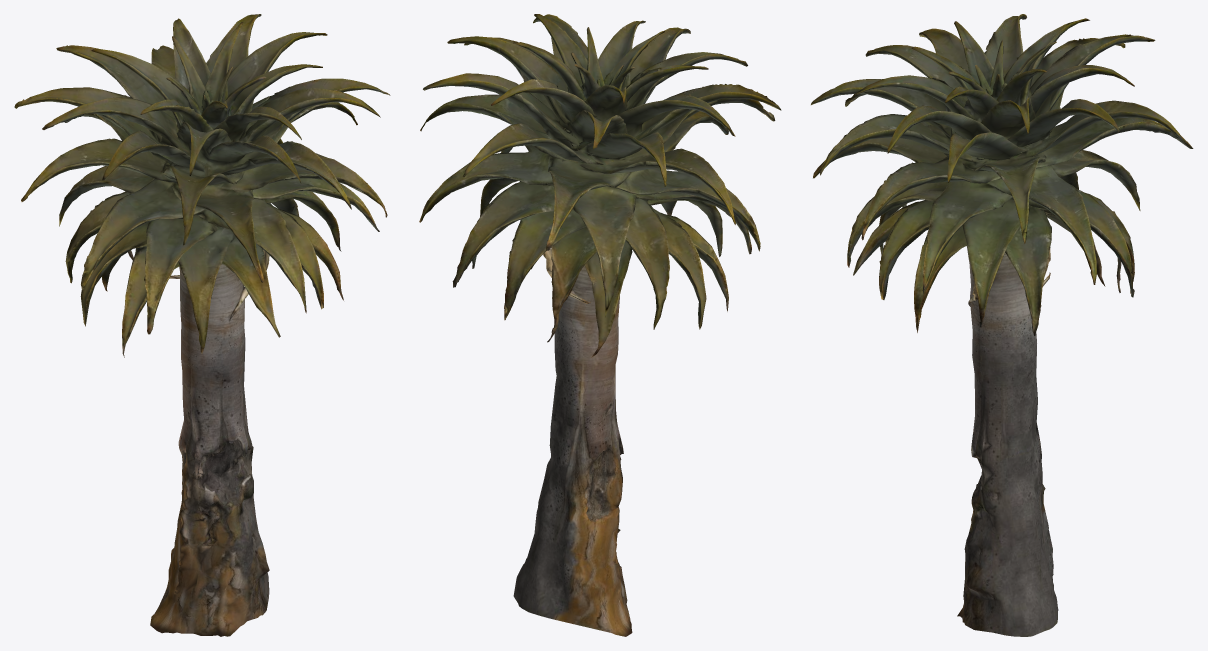
File: quiver_tree_02.glb
3 renders of one model, left to right at view 1: azimuth 30°, elevation 25°; view 2: azimuth 150°, elevation 25°; view 3: azimuth 270°, elevation 25°, orthographic.
Parts seen in each view (by area): view 1: quiver_tree_02; view 2: quiver_tree_02; view 3: quiver_tree_02.
Boxes of the visible parts, x1,y1,x2,y2 form: quiver_tree_02: (14, 14, 390, 636); quiver_tree_02: (419, 14, 781, 636); quiver_tree_02: (811, 14, 1193, 636).
Bounding box in the file's own units: 0.8716 × 1.47 × 0.8805.
1 material, 1 textured.
